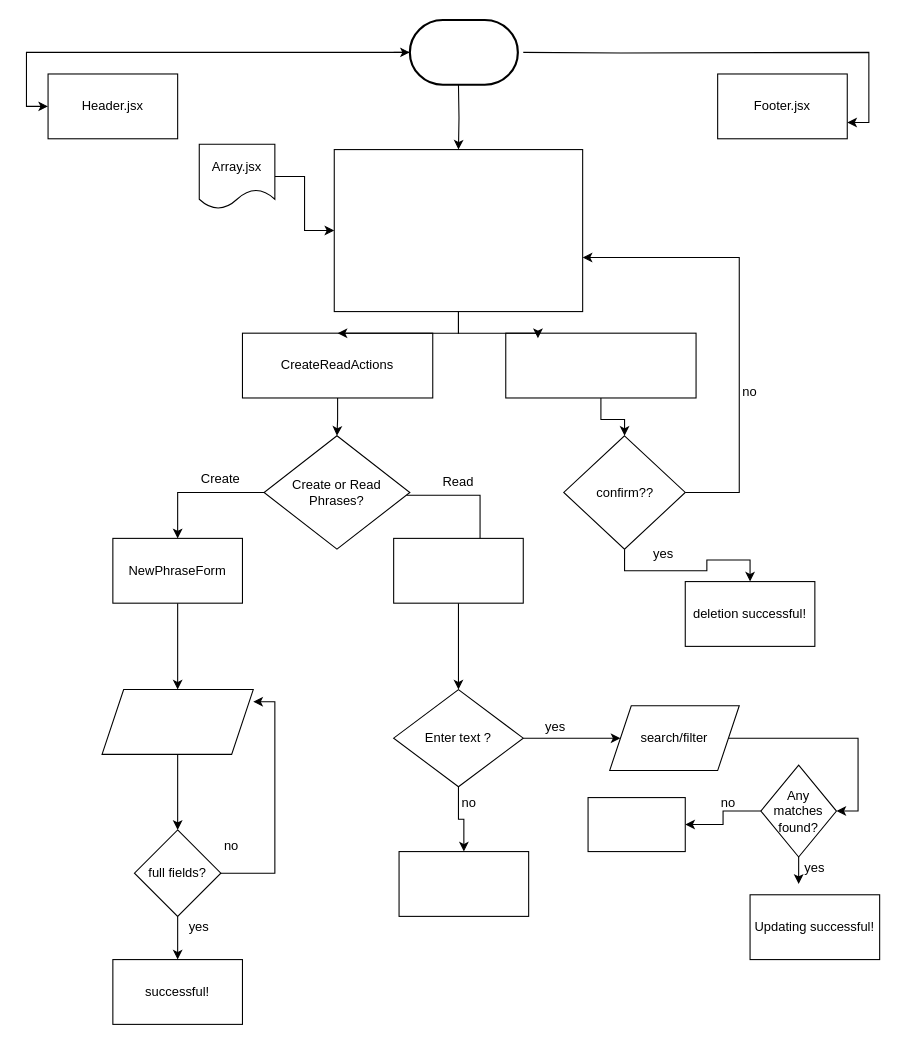
This 899x1043 diagram has some shape labels left out. The shapes that lost their labels are listed below. From the top down, each one's centre as x and y in pixels, then its label:
(463,51): App.jsx
(458,230): View Phrases
(600,365): RemovePhrases
(458,570): ViewAllPhrases
(177,721): Enter Phrase/Author Img
(636,824): No matches founded
(463,883): Read/expand successful!
